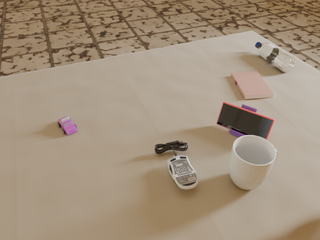book: (231, 71, 274, 99)
bottle: (255, 42, 295, 72)
cup: (229, 135, 278, 190)
mouse: (167, 152, 198, 189)
phone: (217, 102, 274, 140)
toy_car: (58, 116, 77, 135)
